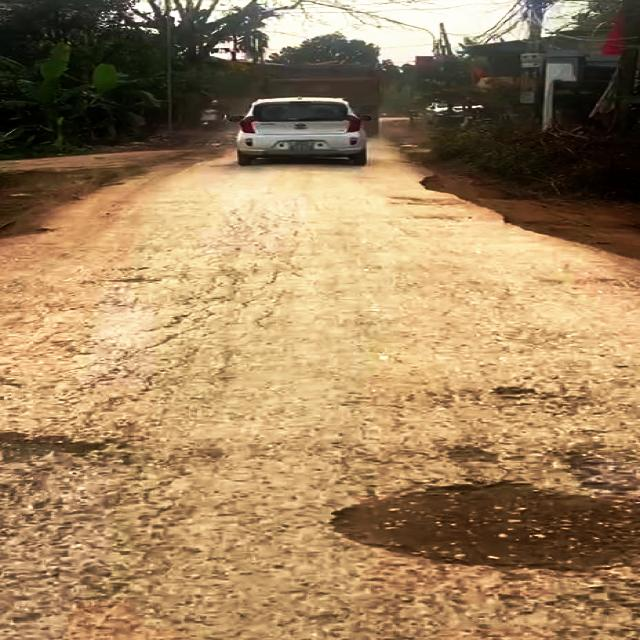pothole: (323, 476, 636, 574), (0, 427, 131, 478)
